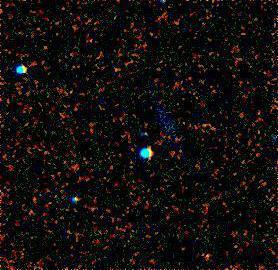star: (196, 241, 226, 270)
